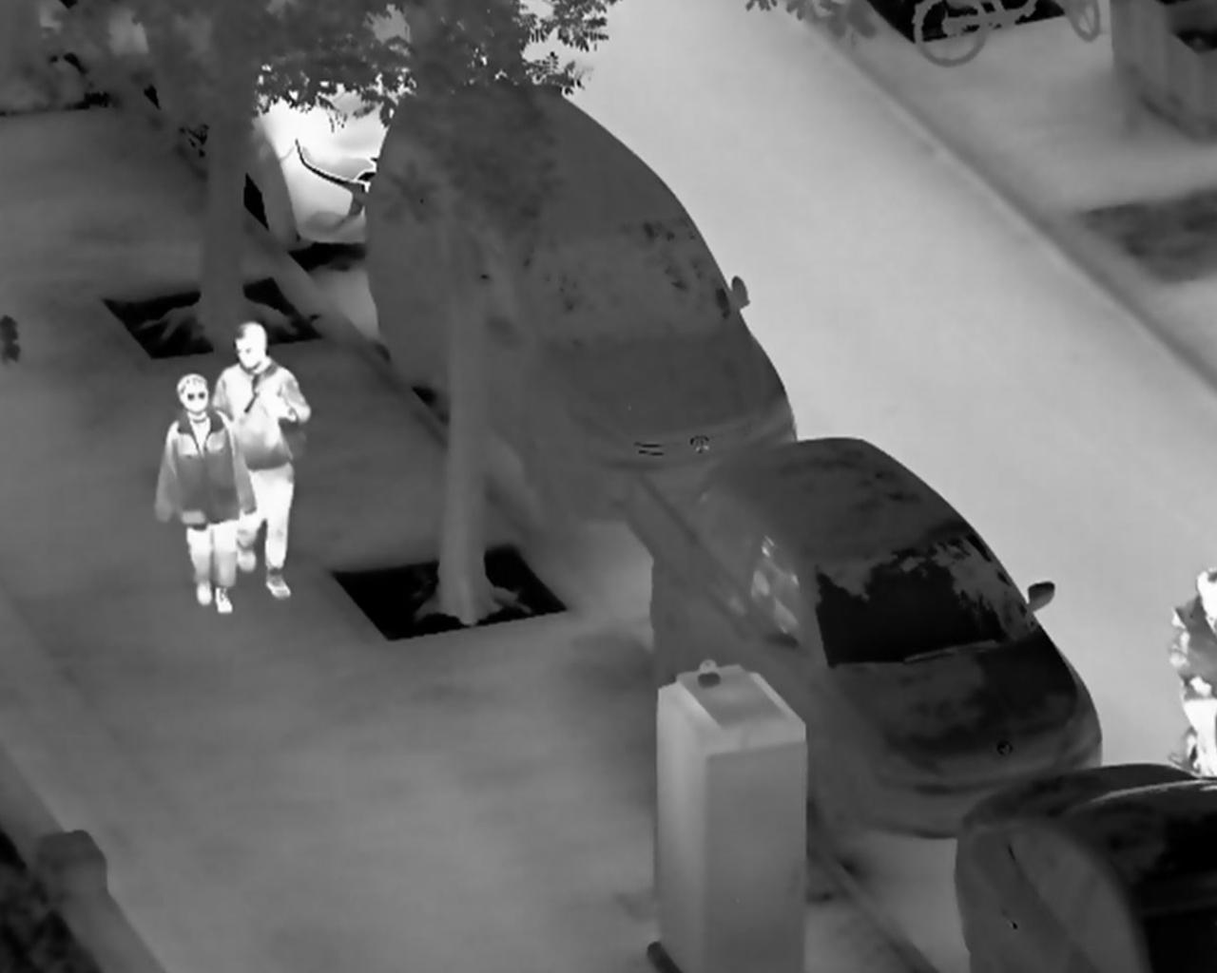person: (208, 322, 313, 602), (151, 370, 259, 613)
